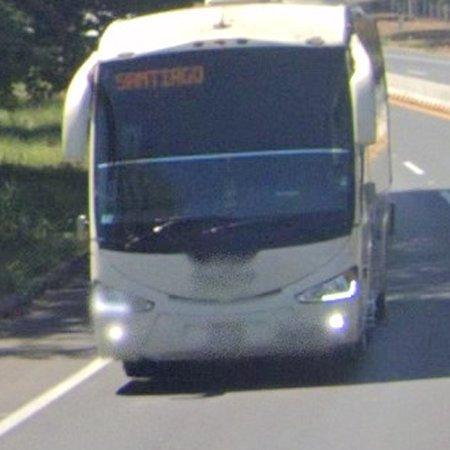buses: (63, 3, 392, 377)
